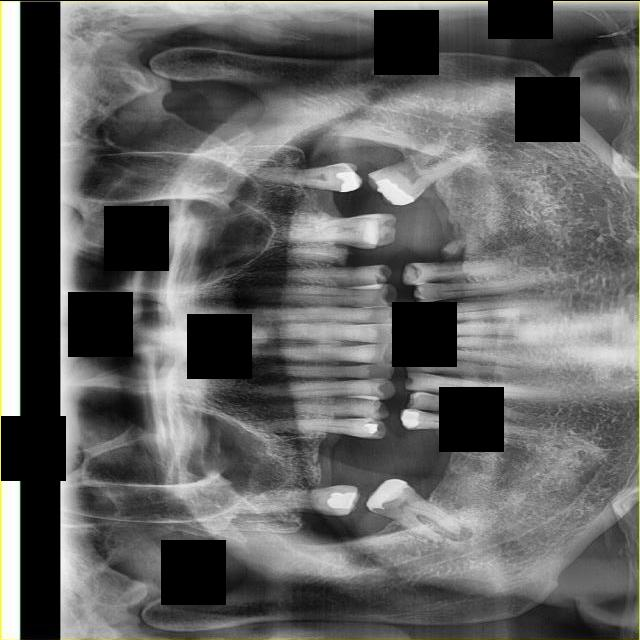72: (275, 236, 349, 267), (439, 233, 468, 263)
NucleOSS Implant: (363, 469, 410, 515), (373, 172, 416, 213), (335, 168, 363, 193), (327, 491, 357, 509), (399, 407, 422, 429), (361, 422, 376, 433)
Sterngold Implant: (408, 265, 421, 277), (375, 276, 383, 284)
Straumann Implant: (359, 217, 385, 247)
